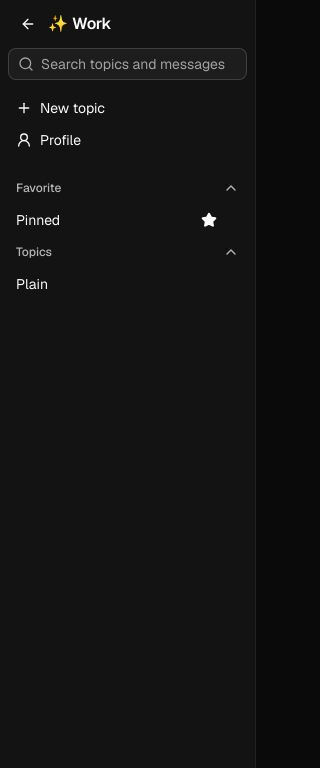
Test: AssistantTree › collapsing Topics hides only the normal rows and leaves Favorite visible
Click the button "Topics". click: (128, 252)
box: [8,236,247,268]
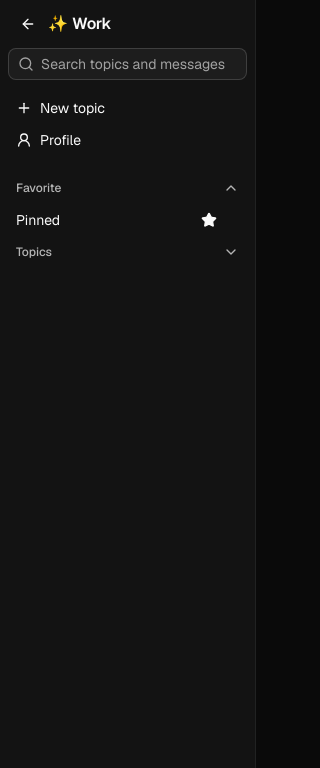
Expected: the button "Favorite" is shown, [8,172,247,204]
Result: the button "Topics" is collapsed at [8,236,247,268]
